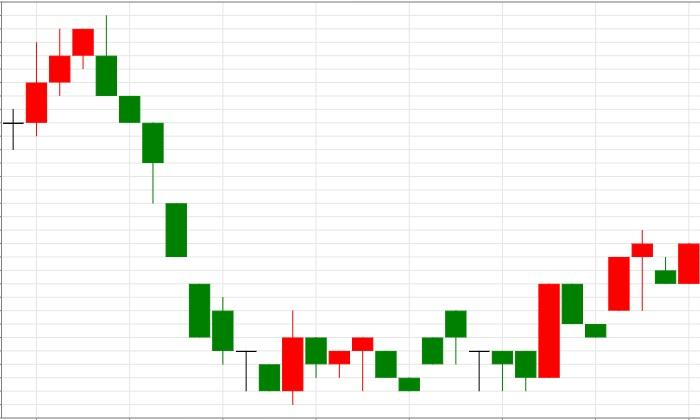bullish_engulfing_rise: (72, 14, 304, 405)
hanging_man_fall: (281, 311, 375, 406)
three_black_crows_fall: (2, 14, 164, 205)
three_white_soldiers_rise: (351, 310, 467, 392)
